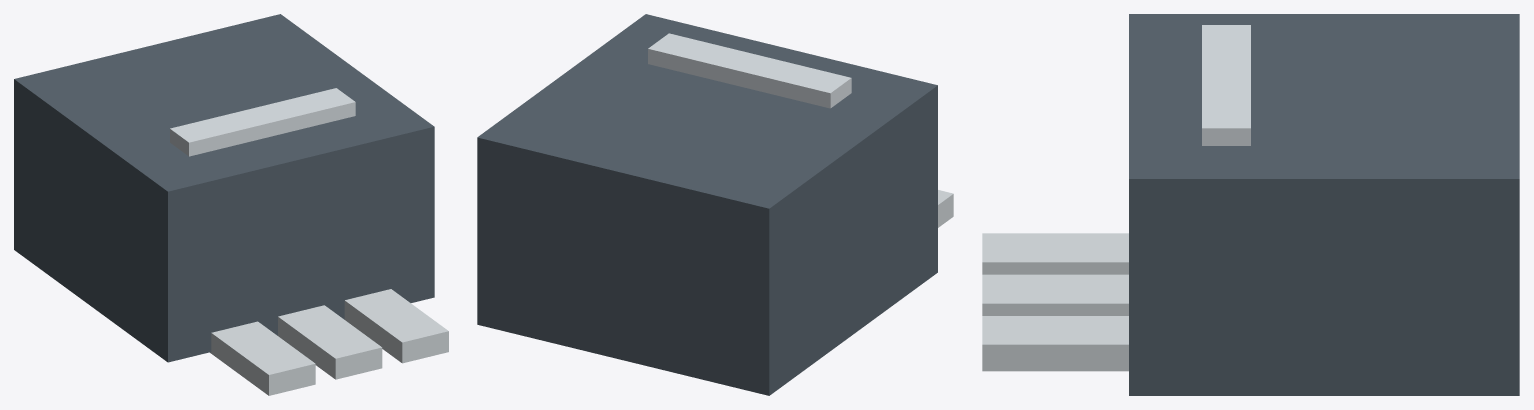
The picture shows the model from 3 angles, left to right: view 1: azimuth 30°, elevation 25°; view 2: azimuth 150°, elevation 25°; view 3: azimuth 270°, elevation 25°; orthographic projection. The views are drawn at different scales.
Parts seen in each view (by area): view 1: L122_black_chip__PSMAT__black_chip, L122_tin__PSMAT__tin, L122_silver__PSMAT__silver; view 2: L122_black_chip__PSMAT__black_chip, L122_silver__PSMAT__silver, L122_tin__PSMAT__tin; view 3: L122_black_chip__PSMAT__black_chip, L122_tin__PSMAT__tin, L122_silver__PSMAT__silver.
Boxes of the visible parts, x1,y1,x2,y2 form: L122_black_chip__PSMAT__black_chip: (14,14,434,362); L122_tin__PSMAT__tin: (210,289,448,395); L122_silver__PSMAT__silver: (170,88,355,156); L122_black_chip__PSMAT__black_chip: (477,14,937,395); L122_silver__PSMAT__silver: (648,33,851,108); L122_tin__PSMAT__tin: (938,190,953,227); L122_black_chip__PSMAT__black_chip: (1129,14,1519,395); L122_tin__PSMAT__tin: (982,233,1128,371); L122_silver__PSMAT__silver: (1202,25,1250,145).
Bounding box in the file's own units: 0.008 × 0.0054 × 0.011.
